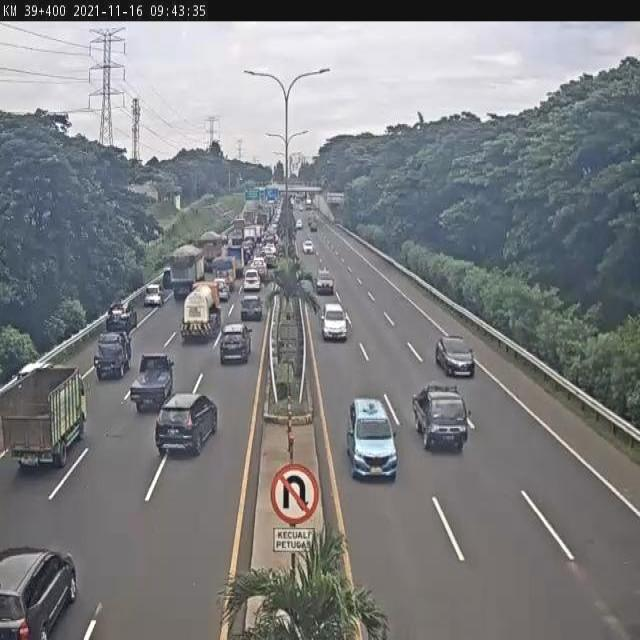Car: (0, 365, 86, 477), (0, 545, 78, 640), (155, 392, 220, 468), (345, 397, 398, 485), (433, 333, 478, 378), (218, 323, 253, 369), (107, 304, 138, 334), (314, 268, 334, 298), (240, 295, 262, 322), (144, 284, 162, 307), (302, 240, 315, 256)
Truck: (408, 382, 469, 452), (128, 353, 174, 411), (178, 283, 221, 344), (92, 332, 134, 380), (172, 244, 203, 292), (200, 232, 226, 271), (213, 255, 236, 286), (226, 245, 243, 276)
Van: (318, 304, 351, 340), (243, 270, 261, 292)
